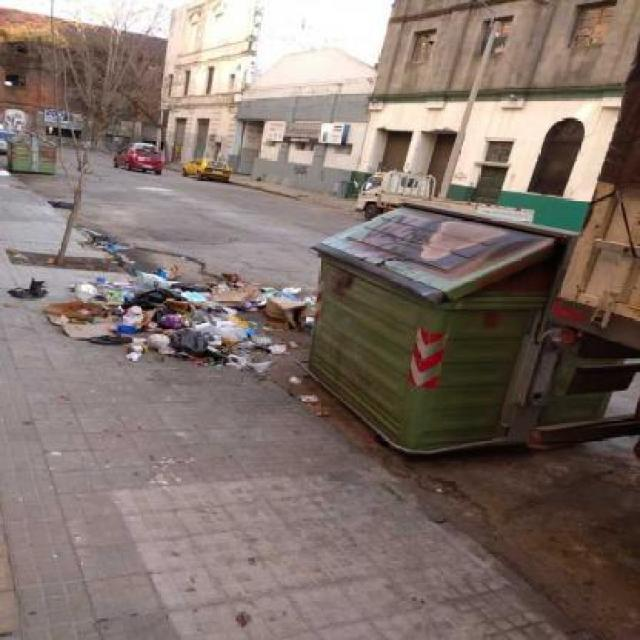garbage: (79, 228, 333, 384), (9, 274, 51, 302), (52, 195, 76, 220), (296, 397, 330, 414), (0, 160, 12, 188)
